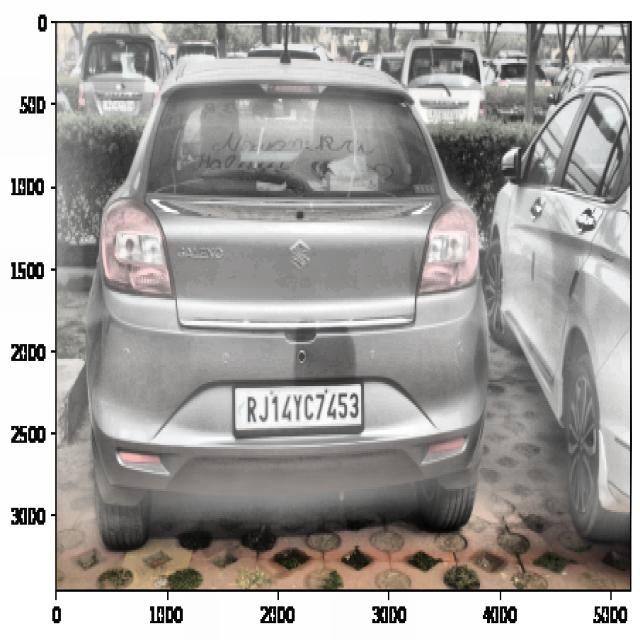license_plate: (240, 382, 362, 437)
